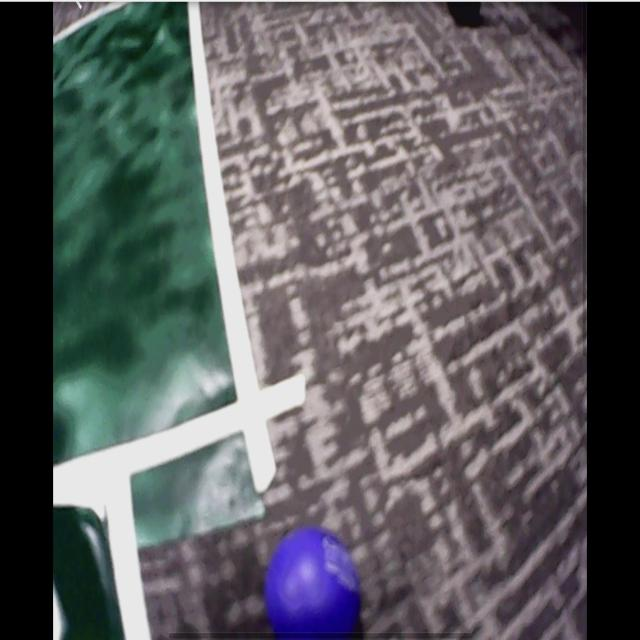ball: (267, 528, 362, 640)
